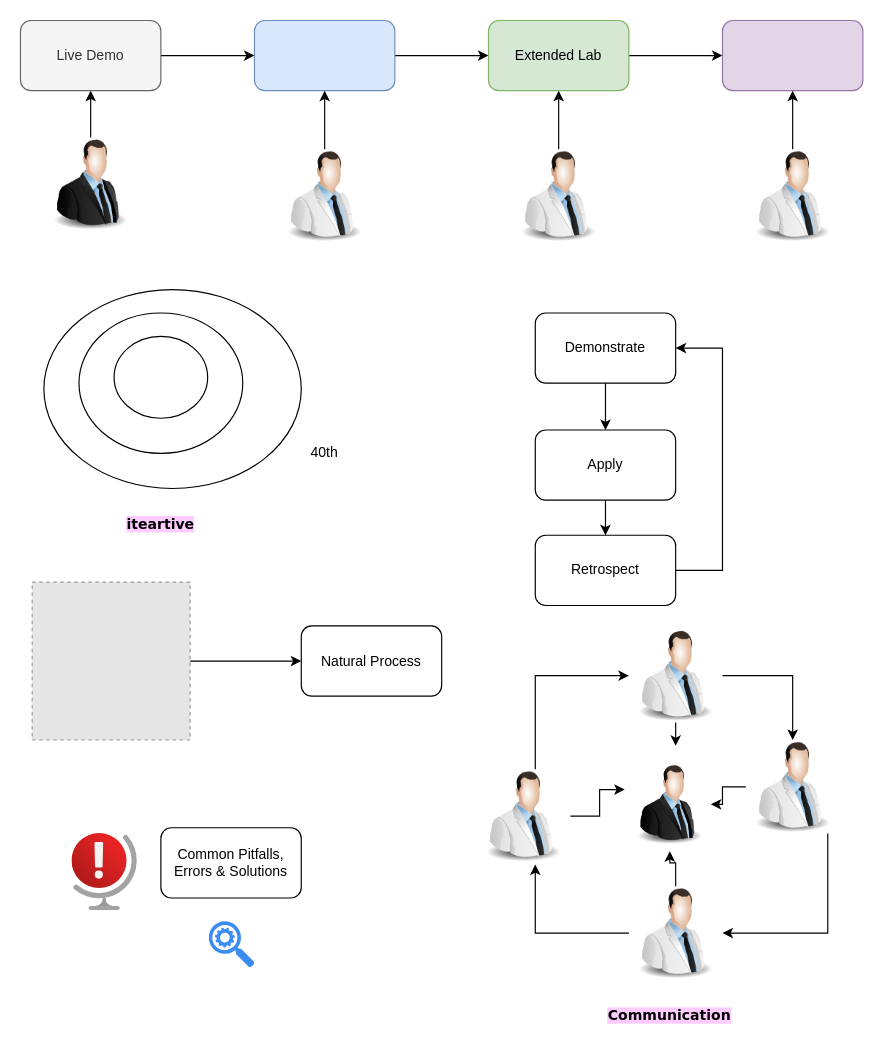
This 883x1047 diagram has some shape labels left out. Grey dashed boxes stand in for pictures. Here are the shapes that lost their labels. From the top down, the centre of each, then its label:
the point at 324,55: Instant Practice
the point at 792,55: Project
the point at 160,376: 1st
